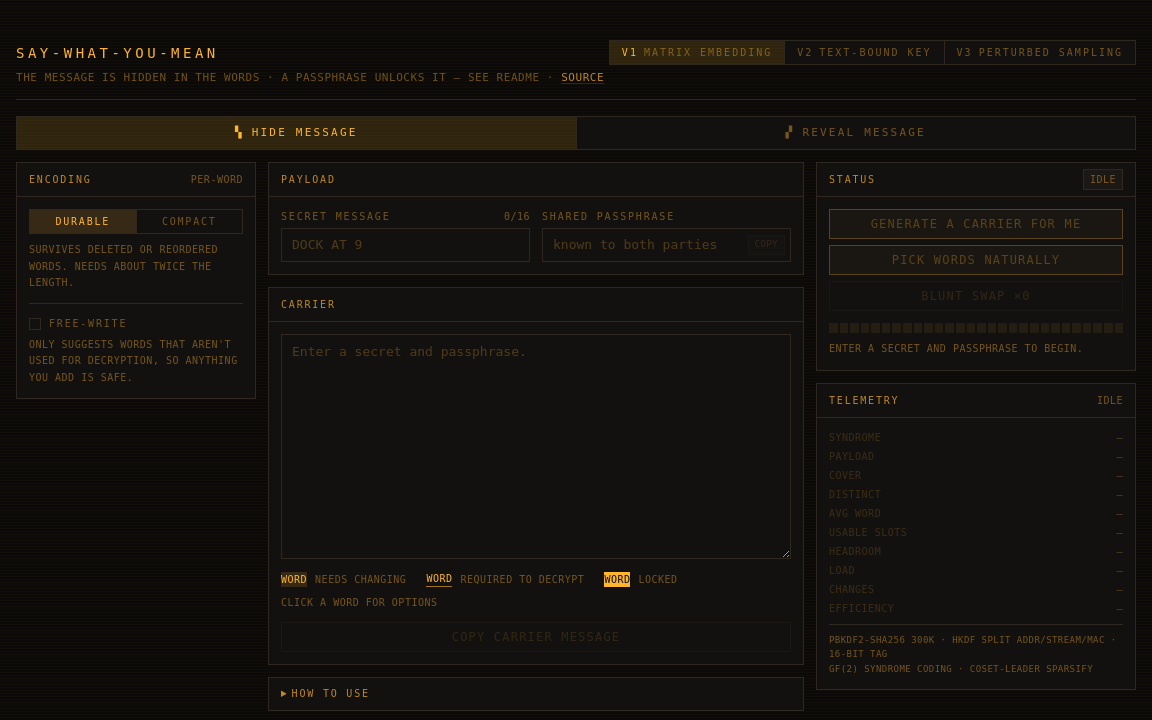
App › shows Hide by default and switches to Reveal
This screenshot has width=1152, height=720.
expect the field labelled "secret message" is shown: met, box [281,228,530,262]
Click the tab "▞ reveal message" at (855,133), box [576,117,1135,149]
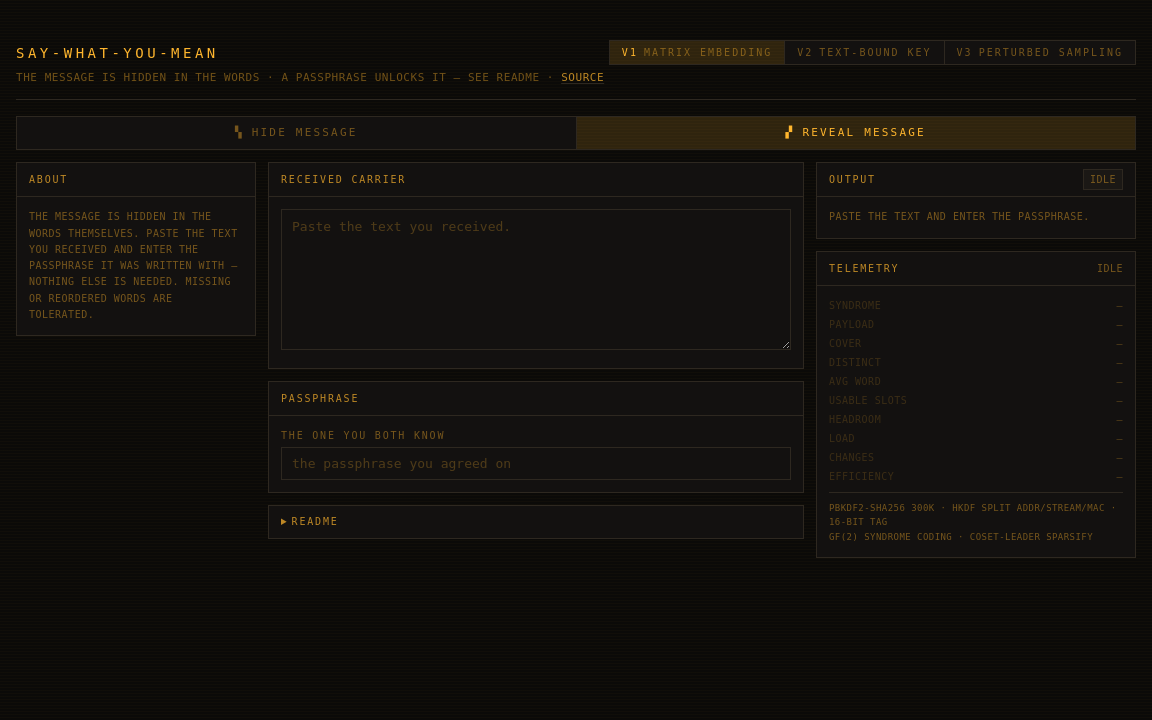
expect the text box named "Received carrier text" is shown: met, box [281,209,791,350]
